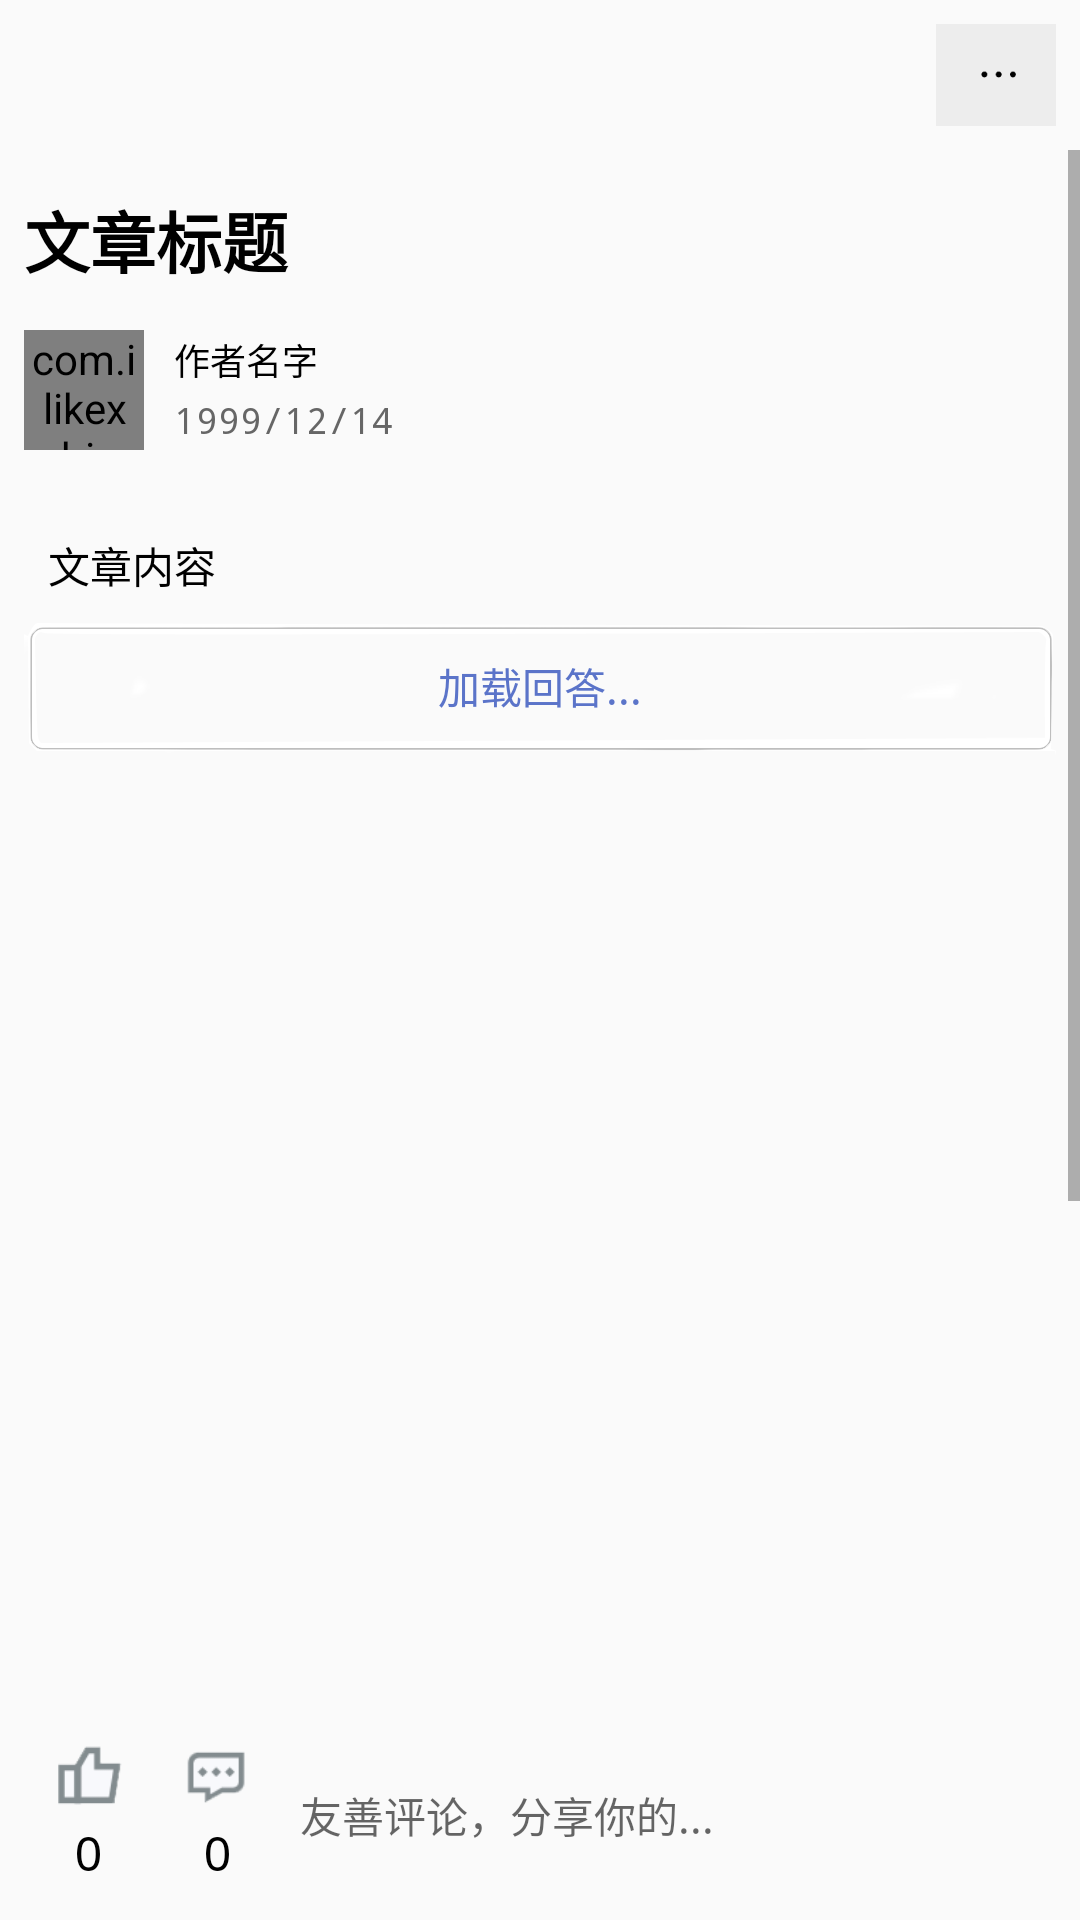

Named icons in this screenshot (1080 x 1920) and their bounding boxes, (x1, y1, x2, y2):
menu: (936, 24, 1056, 126)
pinglun: (188, 1752, 245, 1803)
